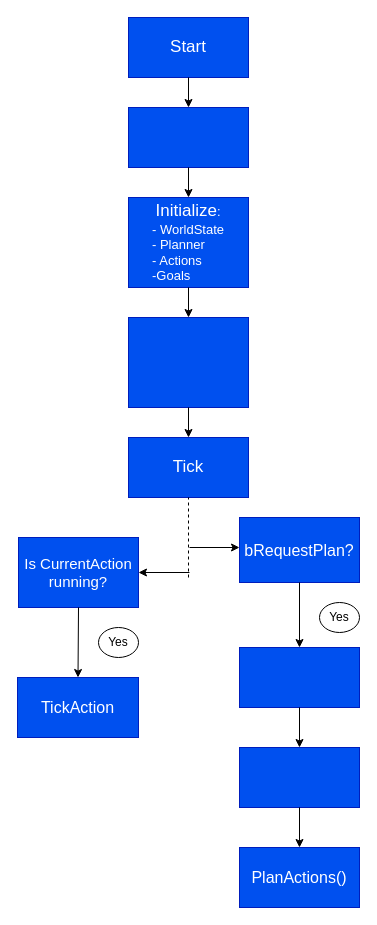
This 377x925 diagram has some shape labels left out. Each missing label, with the centre of its shape:
"BeginPlay()" goes at point 188,137.
"Bind WorldState. OnWorldState Changed -> RequestReplan" goes at point 188,362.
"ReactionTimer countdown" goes at point 299,677.
"Timer <= 0?" goes at point 299,777.
